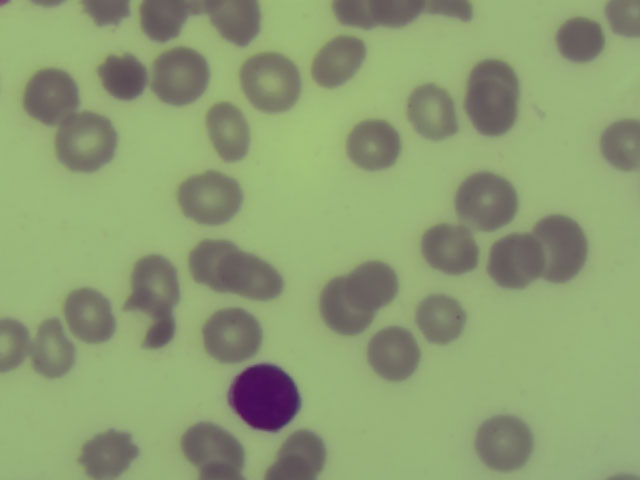RBC: (452, 169, 520, 232), (480, 407, 537, 472), (172, 172, 243, 224), (197, 101, 257, 162), (539, 213, 589, 285), (315, 31, 370, 95), (363, 327, 425, 382), (243, 56, 304, 110), (415, 294, 472, 351), (63, 284, 119, 342), (61, 116, 119, 170), (203, 308, 262, 361), (189, 238, 246, 291), (20, 67, 74, 121), (157, 48, 206, 107), (224, 252, 284, 300), (492, 231, 541, 289), (326, 270, 371, 333), (122, 292, 174, 346), (199, 3, 264, 46), (426, 226, 480, 277), (182, 423, 242, 468), (350, 122, 404, 171), (598, 115, 640, 177), (81, 433, 138, 478), (409, 88, 460, 138), (133, 254, 181, 306), (37, 314, 74, 380), (349, 259, 399, 307), (468, 82, 516, 132), (561, 18, 609, 62), (98, 59, 145, 102), (142, 2, 189, 39), (462, 59, 518, 90), (369, 1, 426, 30), (285, 426, 329, 462), (1, 317, 30, 371), (605, 4, 640, 39), (84, 3, 135, 25), (330, 2, 376, 26), (425, 2, 470, 26), (271, 459, 319, 480), (196, 464, 246, 480), (36, 1, 66, 12), (605, 474, 640, 480)
WBC: (228, 367, 307, 432)
